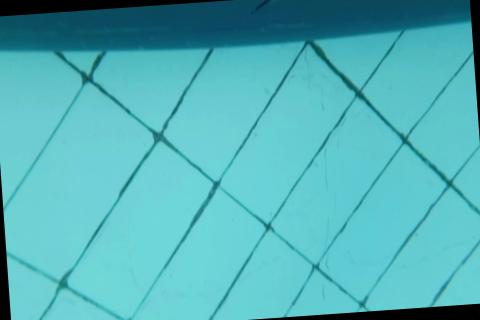keretakan: (247, 0, 285, 18)
